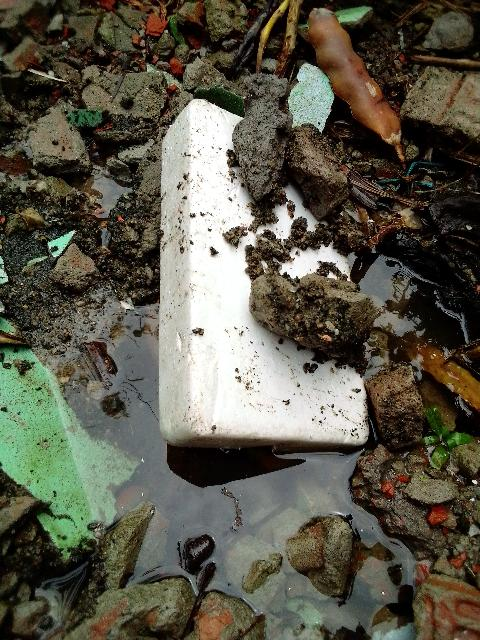cocksheet: (51, 104, 373, 525)
